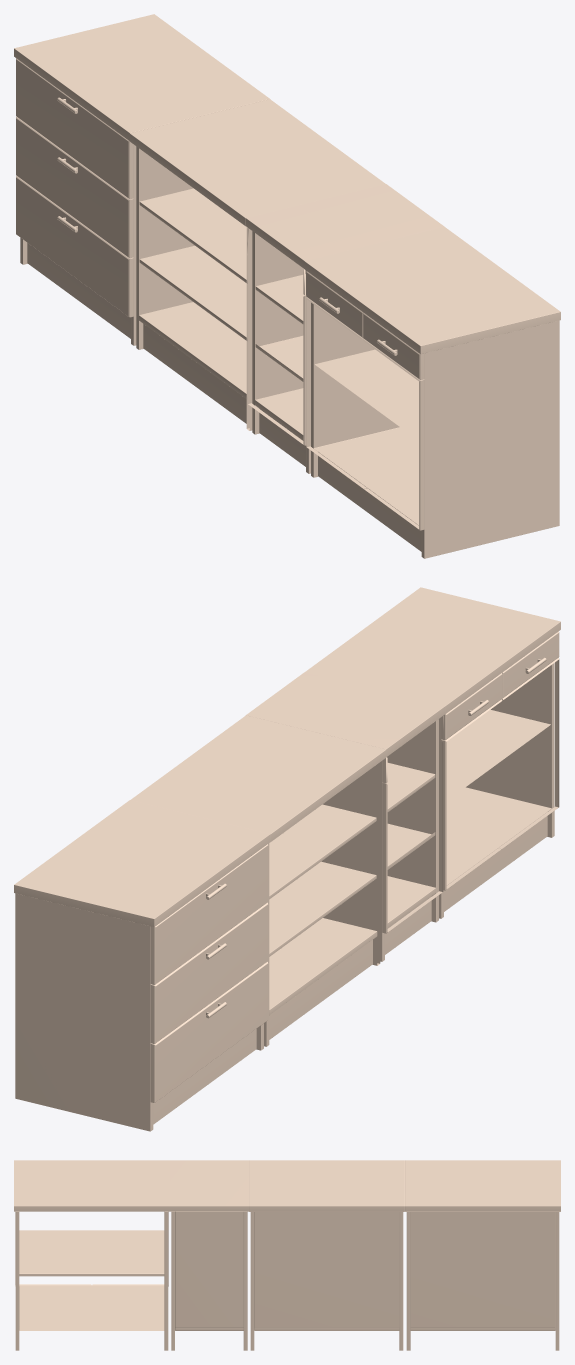
Rendered from drawers.fbx.
3 renders of one model, top to bottom at view 1: azimuth 30°, elevation 25°; view 2: azimuth 150°, elevation 25°; view 3: azimuth 270°, elevation 25°, orthographic. The views are drawn at different scales.
Visible parts, largest first — view 1: Cupboard with shelves, Cupboard, Shelves, Short Shelves; view 2: Cupboard, Cupboard with shelves, Shelves, Short Shelves; view 3: Shelves, Cupboard, Cupboard with shelves, Short Shelves.
Part boxes in pixels (bbox=[...]): Cupboard with shelves: bbox=[304, 227, 560, 558]; Cupboard: bbox=[14, 14, 269, 345]; Shelves: bbox=[130, 99, 385, 430]; Short Shelves: bbox=[246, 184, 444, 473]; Cupboard: bbox=[14, 800, 270, 1131]; Cupboard with shelves: bbox=[305, 587, 560, 918]; Shelves: bbox=[130, 715, 386, 1046]; Short Shelves: bbox=[246, 672, 444, 961]; Shelves: bbox=[249, 1160, 404, 1350]; Cupboard: bbox=[405, 1160, 560, 1350]; Cupboard with shelves: bbox=[14, 1160, 169, 1350]; Short Shelves: bbox=[169, 1160, 248, 1350].
Bounding box in the file's own units: 59.76 × 83.84 × 287.
